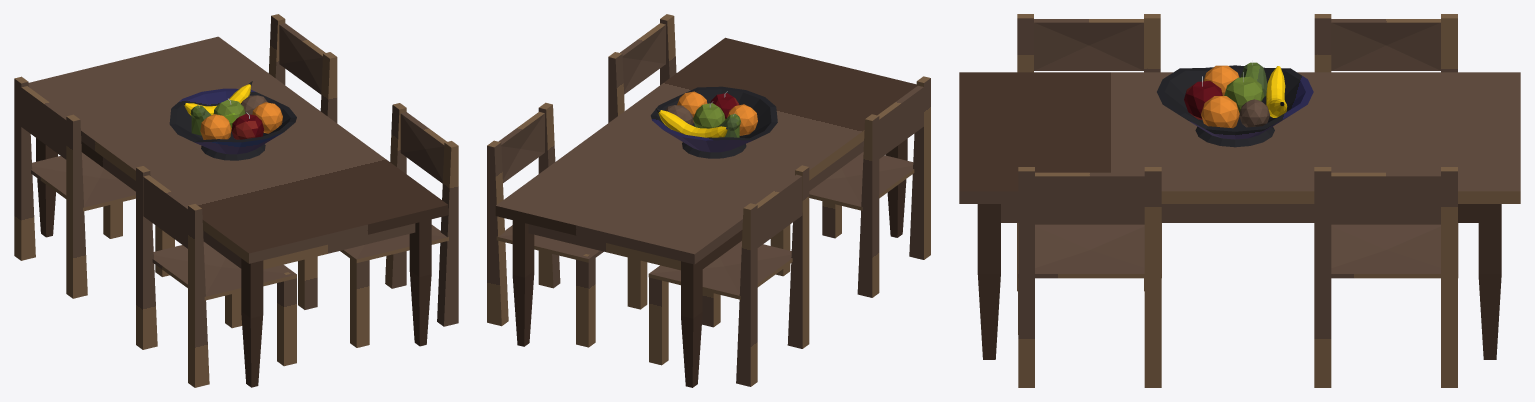
Rendered from Accesories_Dinner_Table.glb.
3 views of the same model, side by side, from view 1: azimuth 30°, elevation 25°; view 2: azimuth 150°, elevation 25°; view 3: azimuth 270°, elevation 25° (orthographic). The views are drawn at different scales.
Parts seen in each view (by area): view 1: Accesories_Dinner_Table; view 2: Accesories_Dinner_Table; view 3: Accesories_Dinner_Table.
Part boxes in pixels (x1,y1,x2,y2): Accesories_Dinner_Table: (14,14,458,387); Accesories_Dinner_Table: (487,14,930,387); Accesories_Dinner_Table: (959,14,1520,387).
Size of the model in its own units: 1.2 by 0.8294 by 1.81.
Materials: 1 (1 with a texture image).
